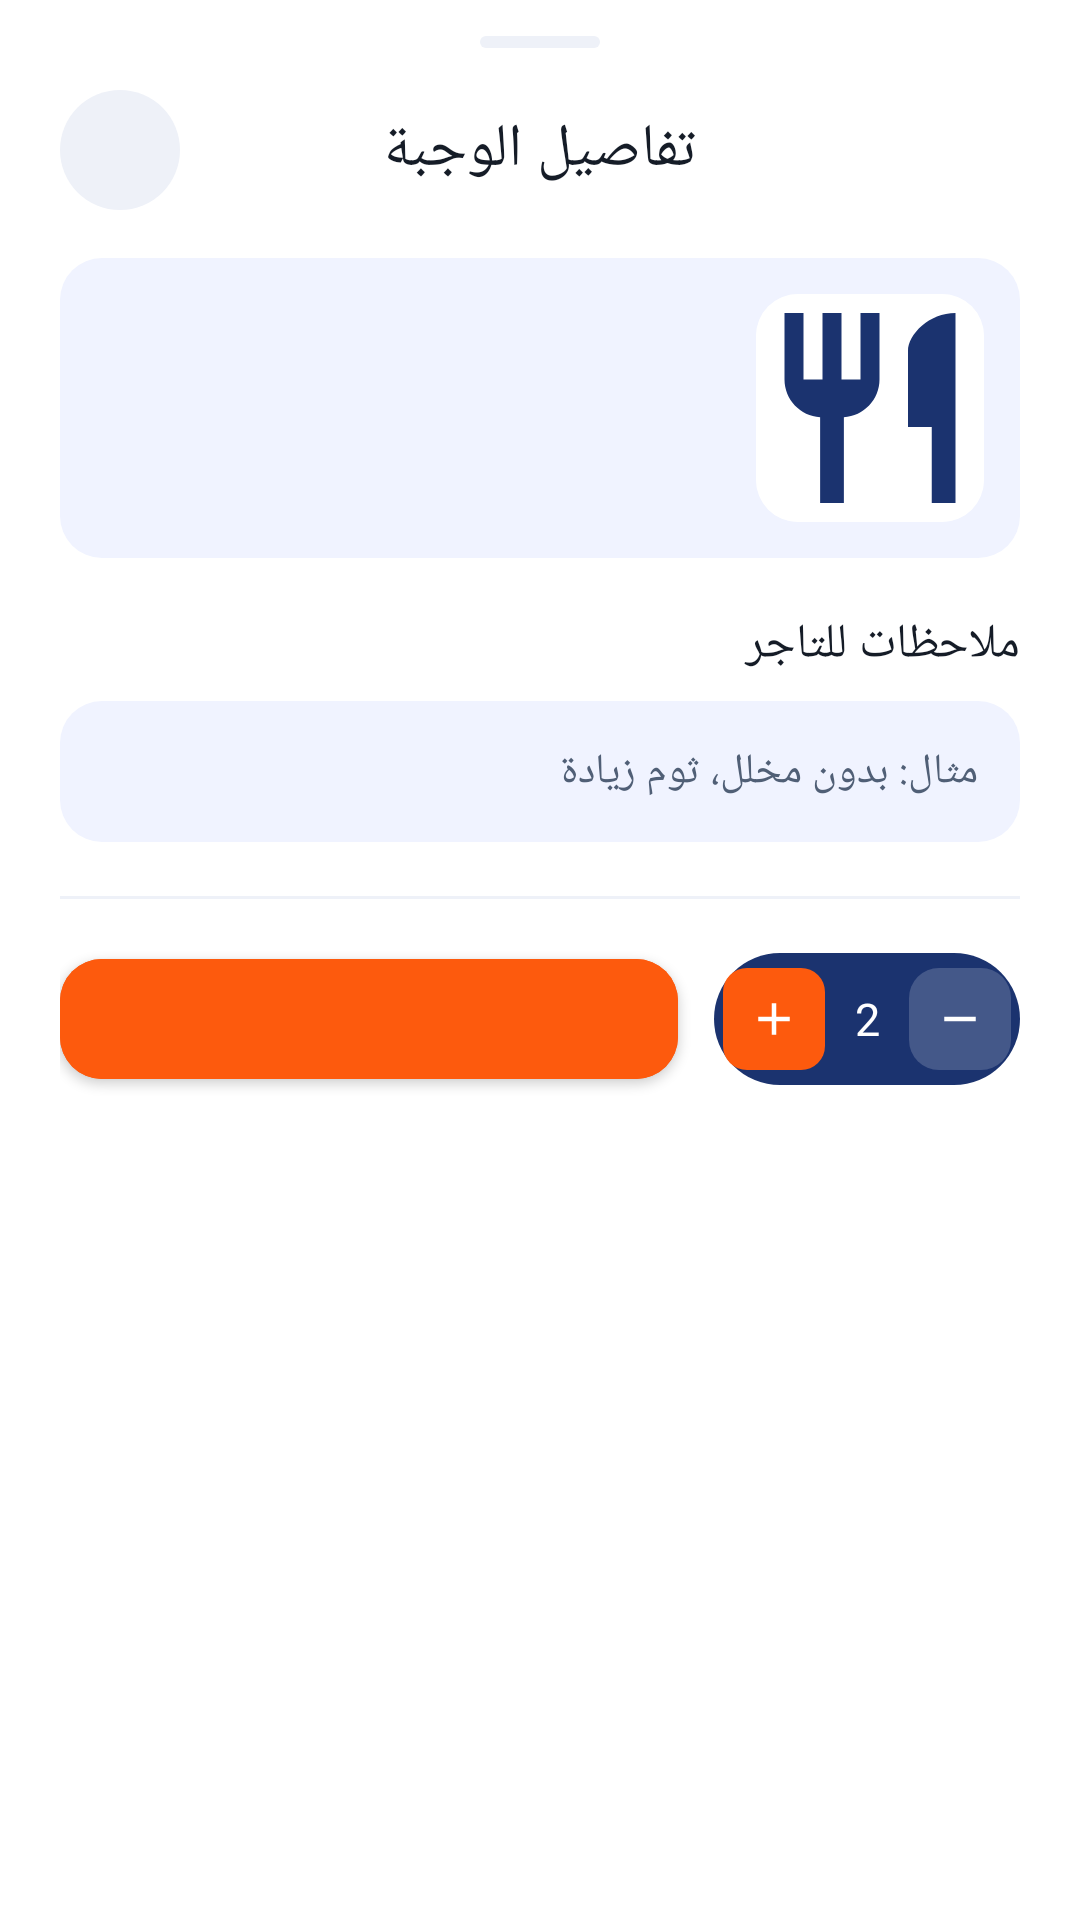

Where to tap for icons on this 1080×1920 app screen, as (x,y):
إنقاص عدد هذا الصنف: (960,1019)
زيادة عدد هذا الصنف: (774,1019)
صورة الصنف: (870,408)
